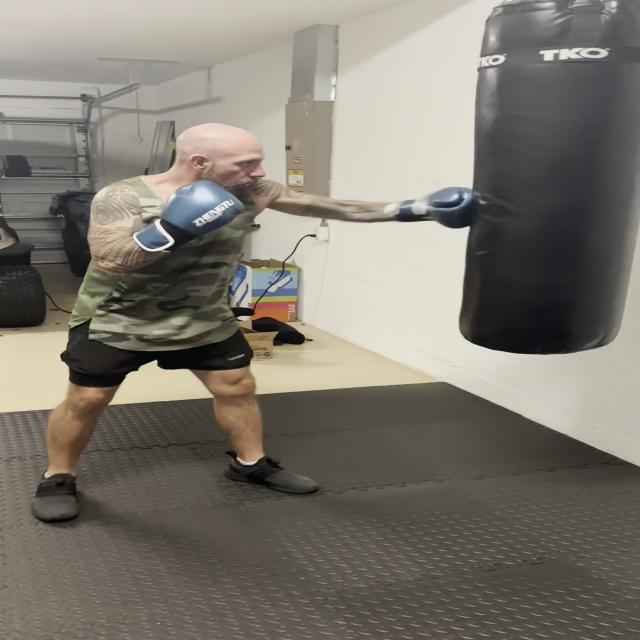punch: (80, 107, 496, 291)
